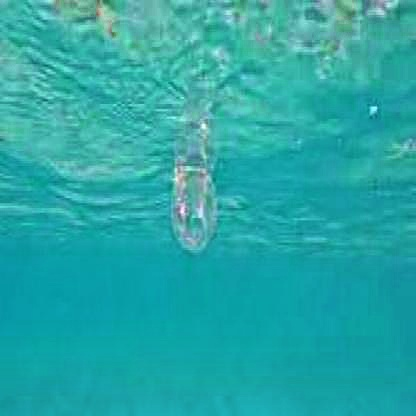pbottle: (156, 126, 223, 253)
